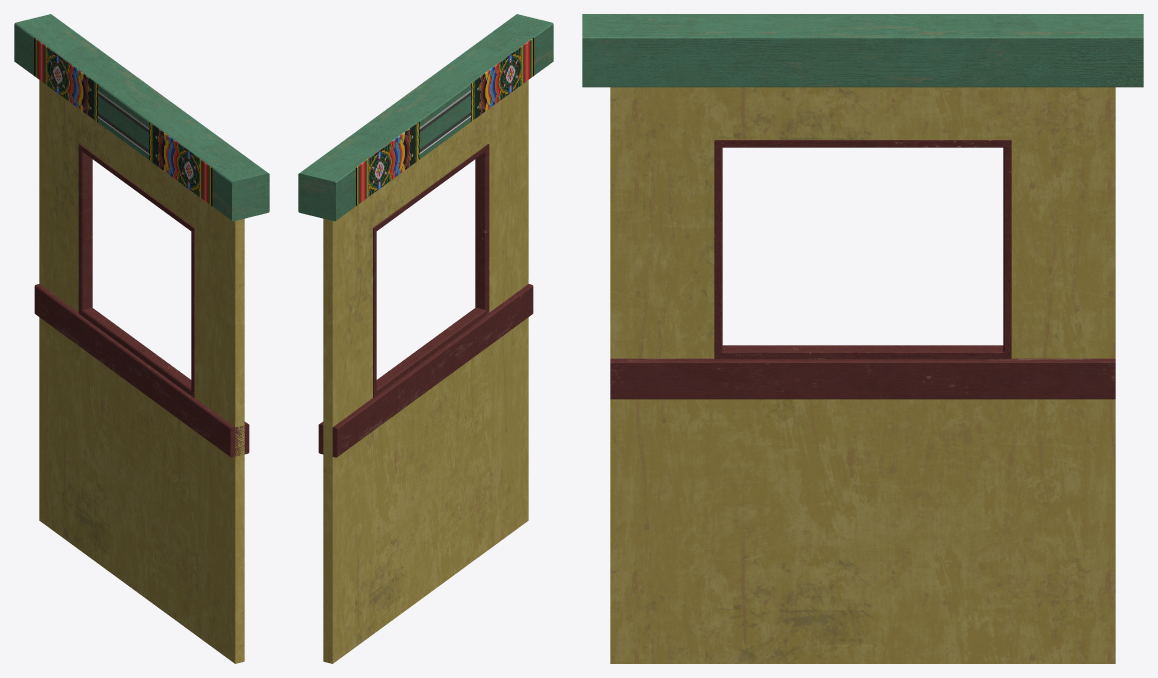
The model's file is SM_Wall02b.fbx.
The picture shows the model from 3 angles, left to right: view 1: azimuth 30°, elevation 25°; view 2: azimuth 150°, elevation 25°; view 3: azimuth 270°, elevation 25°; orthographic projection. The views are drawn at different scales.
Visible parts, largest first — view 1: SM_Wall02b; view 2: SM_Wall02b; view 3: SM_Wall02b.
Boxes of the visible parts, x1,y1,x2,y2 form: SM_Wall02b: [14, 14, 269, 663]; SM_Wall02b: [298, 14, 553, 663]; SM_Wall02b: [582, 14, 1143, 663].
Bounding box in the file's own units: 20 × 250 × 200.
